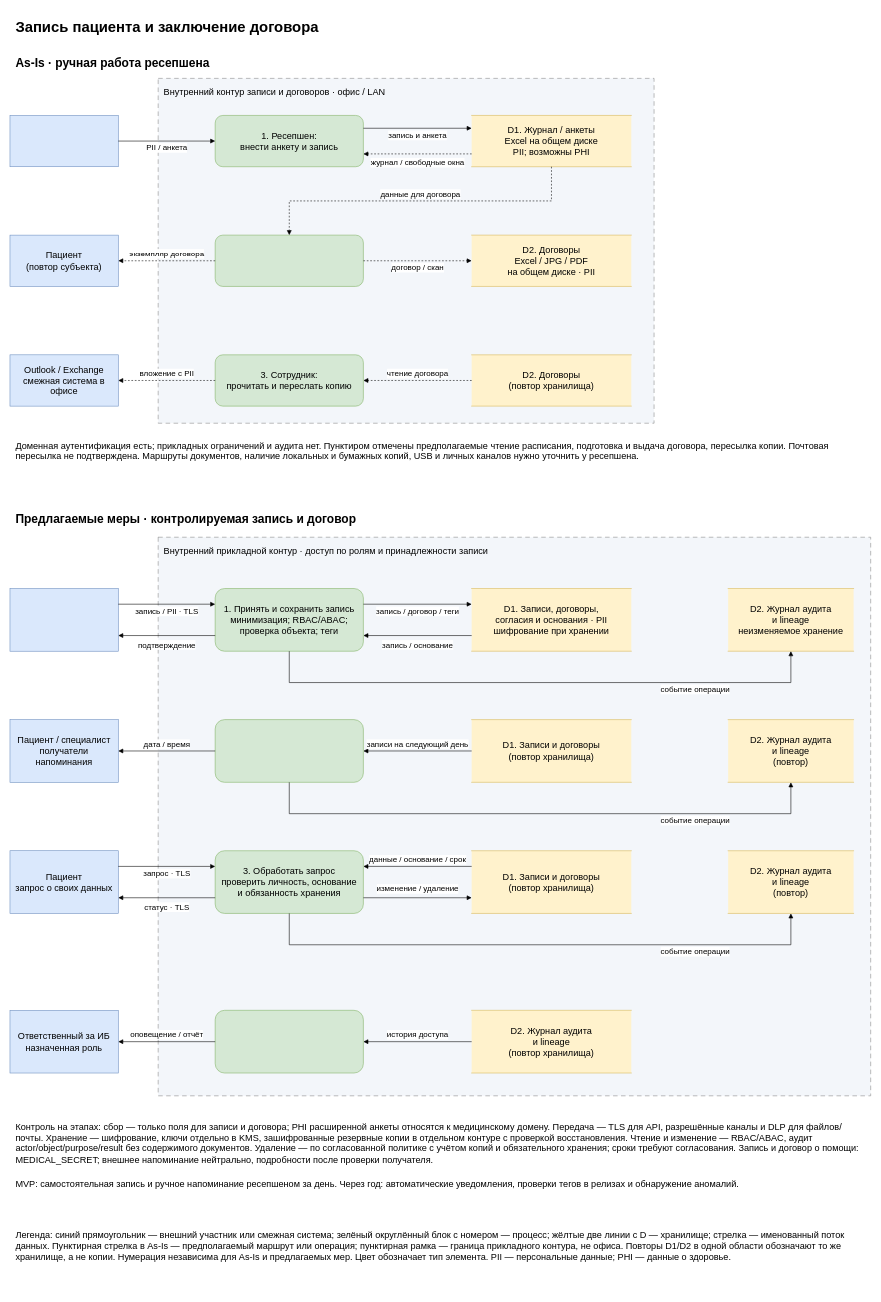
This 881x1302 diagram has some shape labels left out. Here are the shapes that lost their labels. From the top down, the centre of each, then its label:
At point (63, 141): "Пациент".
At point (289, 260): "2. Ресепшен: составить и сохранить договор".
At point (63, 619): "Пациент портал".
At point (289, 750): "2. Ресепшен: напомнить за день до приёма минимум PII; проверить адресата".
At point (289, 1041): "4. Анализировать события выявлять нетипичный доступ и направлять оповещения".
